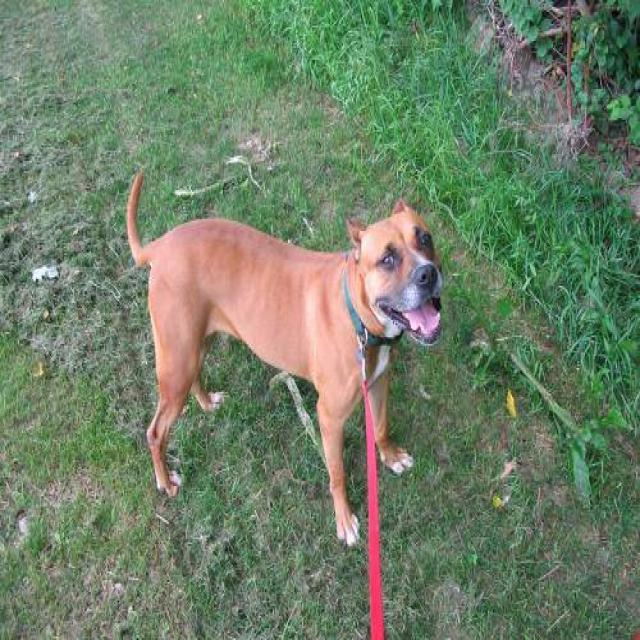Dog: (347, 193, 456, 356)
